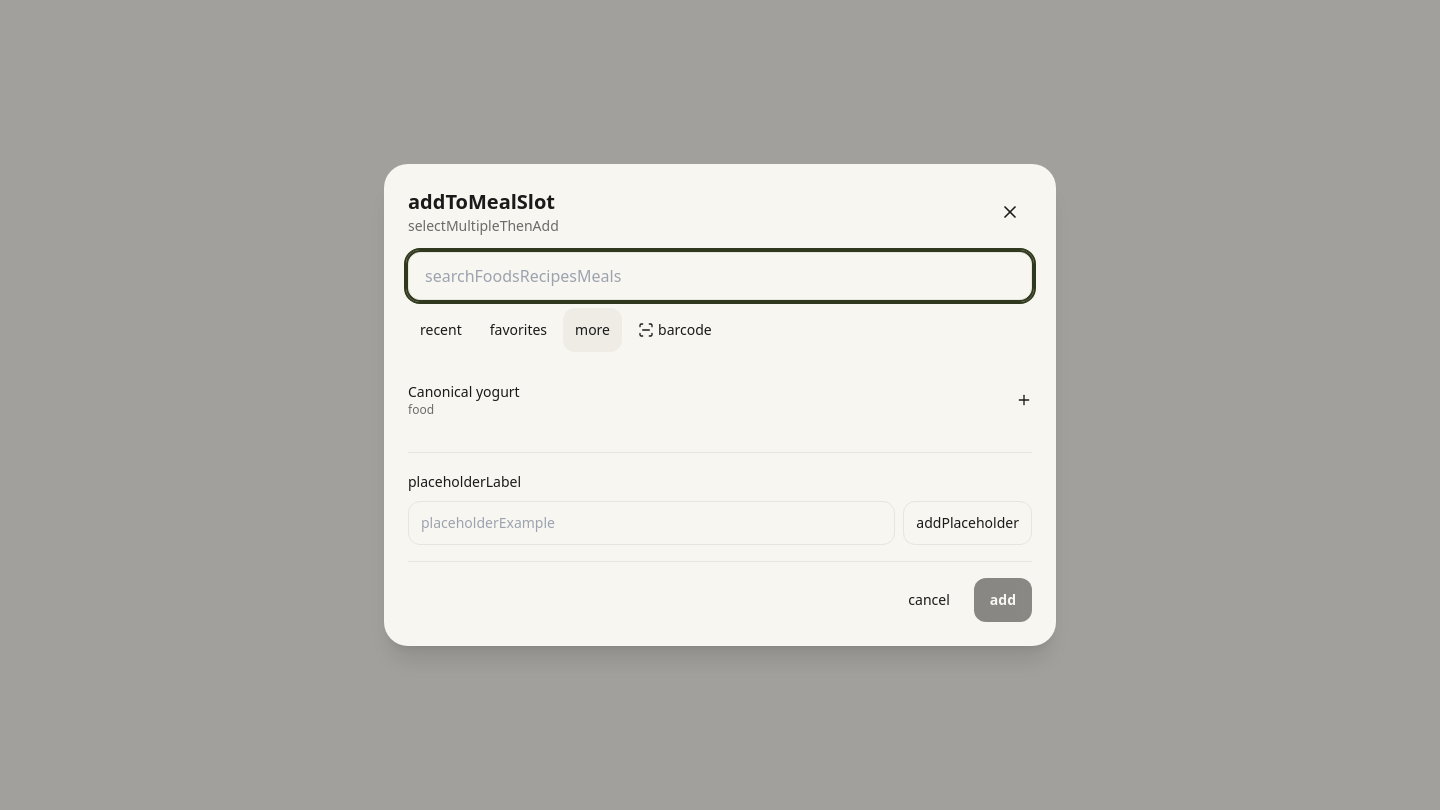
Meal Plan Catalog serving authority › rejects zero authoritative Catalog servings without fabricating nutrition basis as serving
Click the button "Canonical yogurt food": (464, 392) [408,372,1032,428]
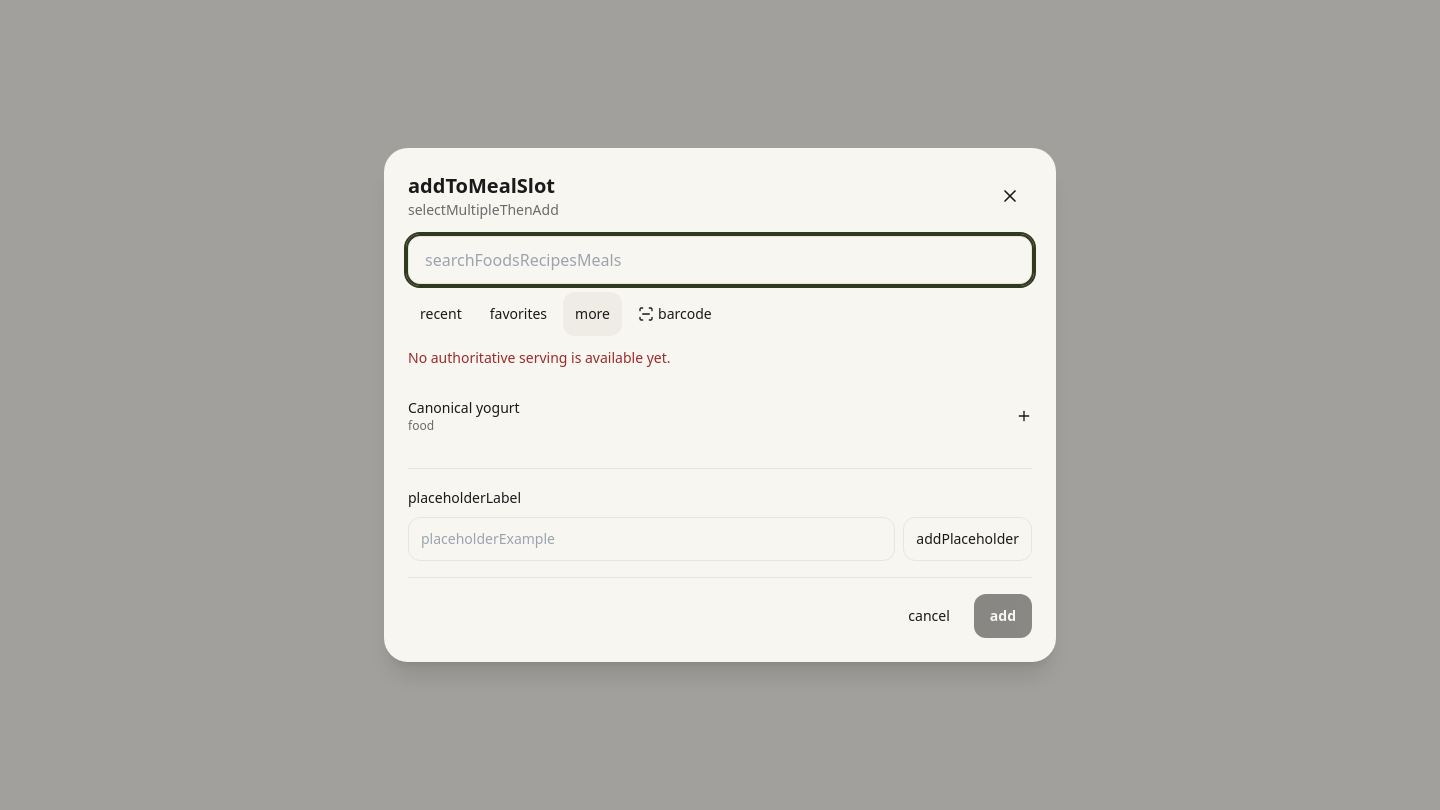
expect the text "No authoritative serving is available yet." is shown: met, box [408,348,670,367]
